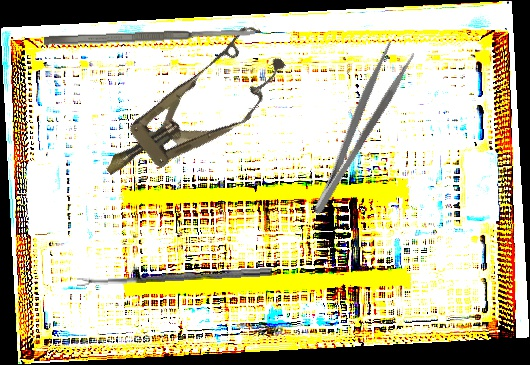Dressing Forceps: (294, 38, 419, 219)
Spatula Surgical: (43, 27, 256, 47)
Speculum: (84, 17, 299, 205)
Surgical Spoon: (76, 266, 273, 287)
